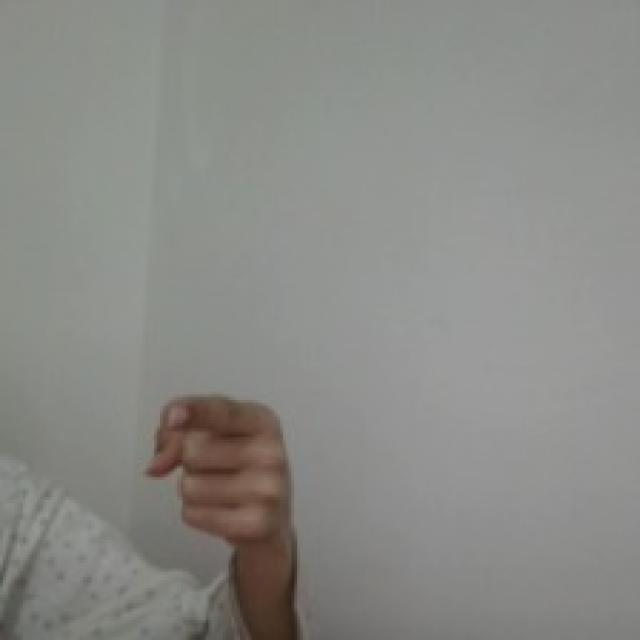you: (138, 385, 298, 549)
